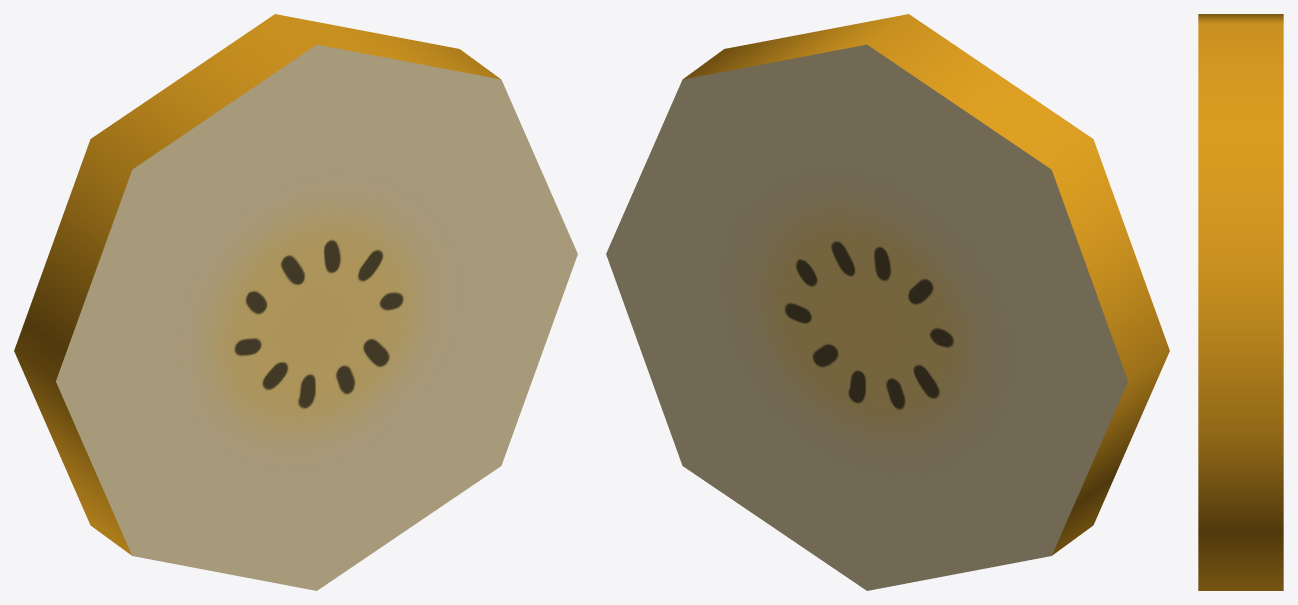
File: banana_scheibe.fbx
3 views of the same model, side by side, from view 1: azimuth 30°, elevation 25°; view 2: azimuth 150°, elevation 25°; view 3: azimuth 270°, elevation 25° (orthographic).
Parts seen in each view (by area): view 1: banana_scheibe; view 2: banana_scheibe; view 3: banana_scheibe.
Boxes of the visible parts, x1,y1,x2,y2 form: banana_scheibe: (14,14,577,590); banana_scheibe: (606,14,1169,590); banana_scheibe: (1198,14,1283,590).
Bounding box in the file's own units: 200 × 200 × 27.72.
